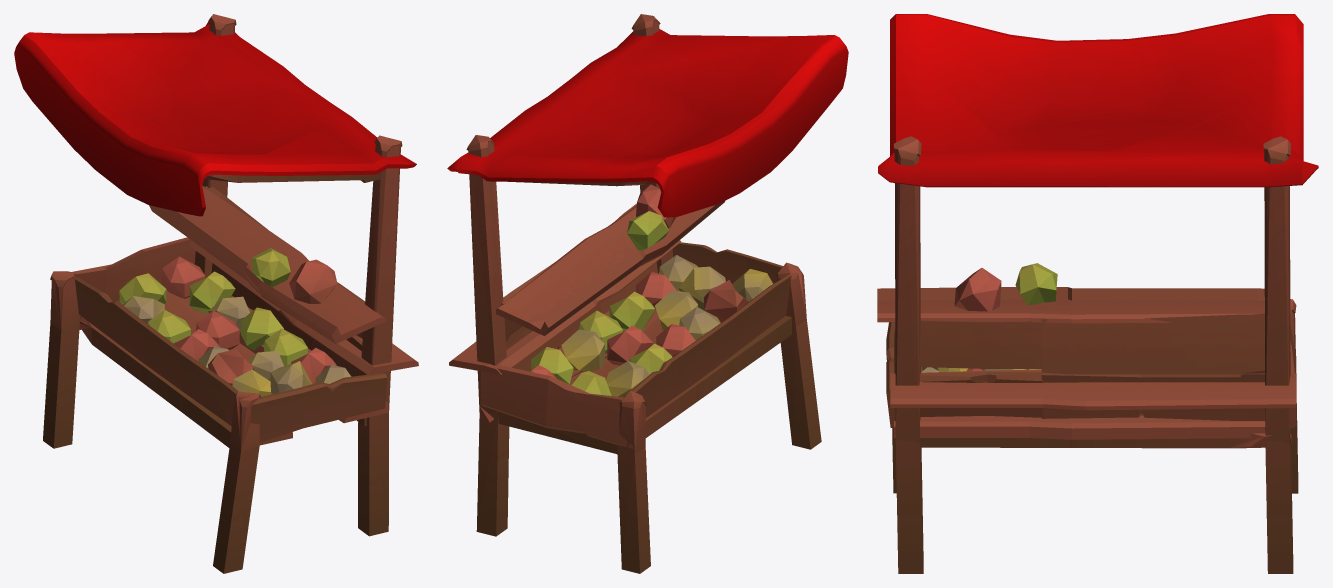
3 renders of one model, left to right at view 1: azimuth 30°, elevation 25°; view 2: azimuth 150°, elevation 25°; view 3: azimuth 270°, elevation 25°, orthographic. The views are drawn at different scales.
Parts seen in each view (by area): view 1: MarketStandSmall; view 2: MarketStandSmall; view 3: MarketStandSmall.
Part boxes in pixels (x1=…): MarketStandSmall: x1=14, y1=14, x2=418, y2=573; MarketStandSmall: x1=447, y1=14, x2=848, y2=573; MarketStandSmall: x1=877, y1=14, x2=1318, y2=573.
Bounding box in the file's own units: 1.89 × 3.35 × 2.91.
Materials: 1 (1 with a texture image).
